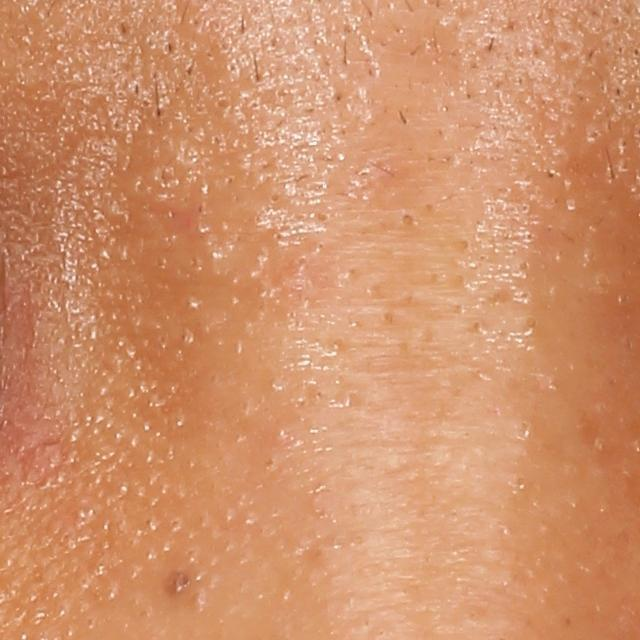comedo: (215, 94, 236, 110), (399, 211, 418, 228)
nevus: (163, 570, 192, 597)
